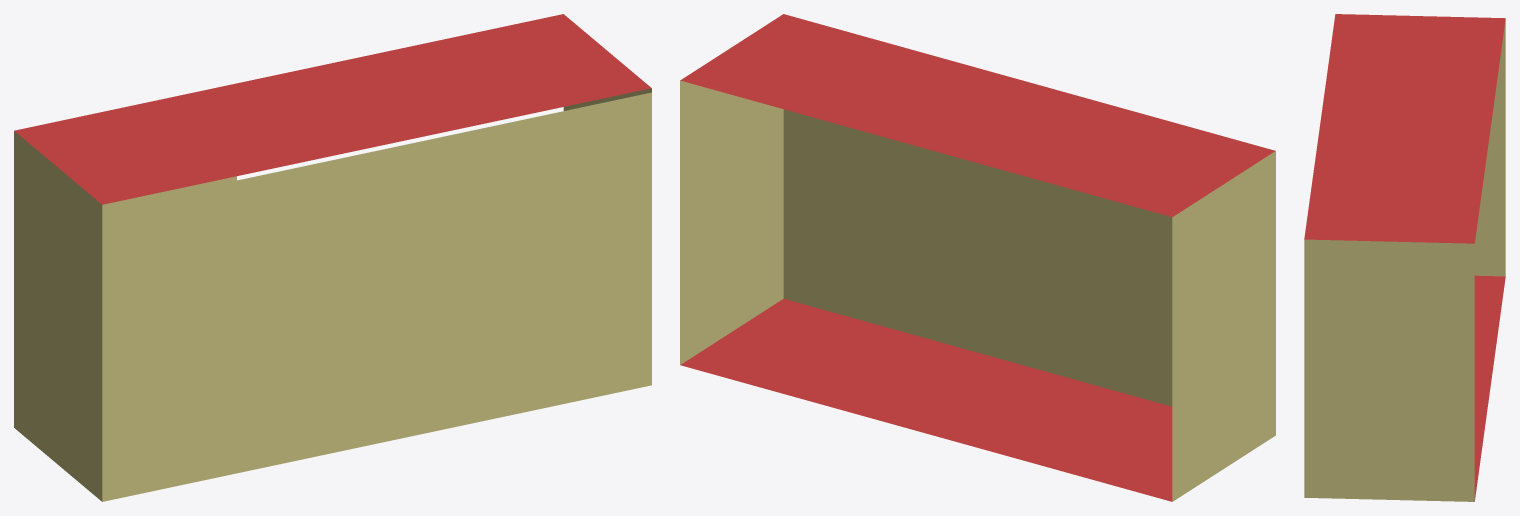
3 views of the same model, side by side, from view 1: azimuth 30°, elevation 25°; view 2: azimuth 150°, elevation 25°; view 3: azimuth 270°, elevation 25° (orthographic). The views are drawn at different scales.
Bounding box in the file's own units: 13.28 × 4.93 × 6.96.
